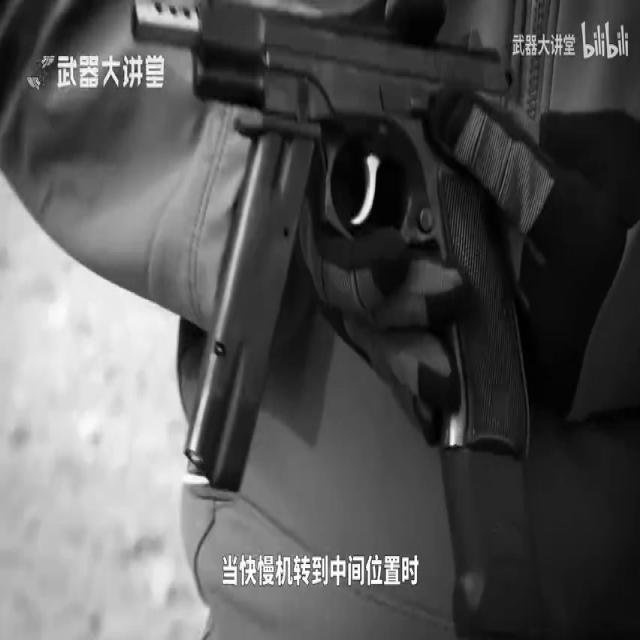Hand-Gun: (148, 24, 531, 484)
